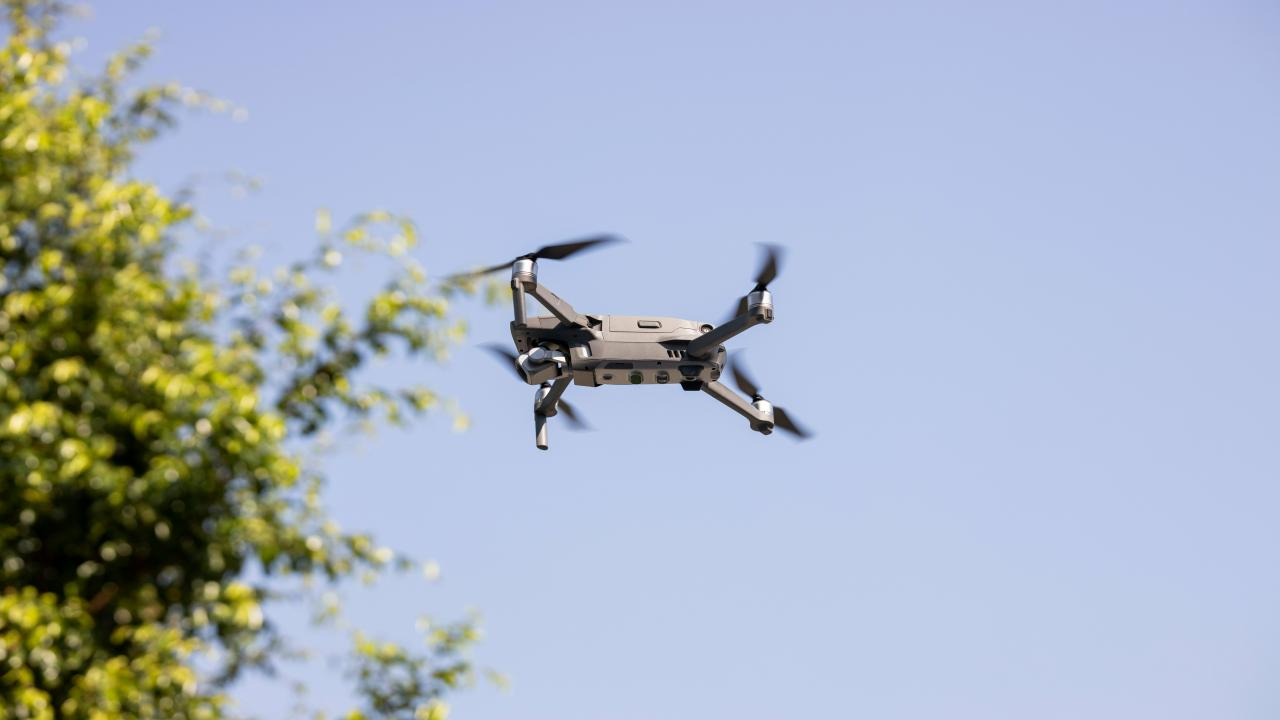Drone: (433, 217, 856, 457)
